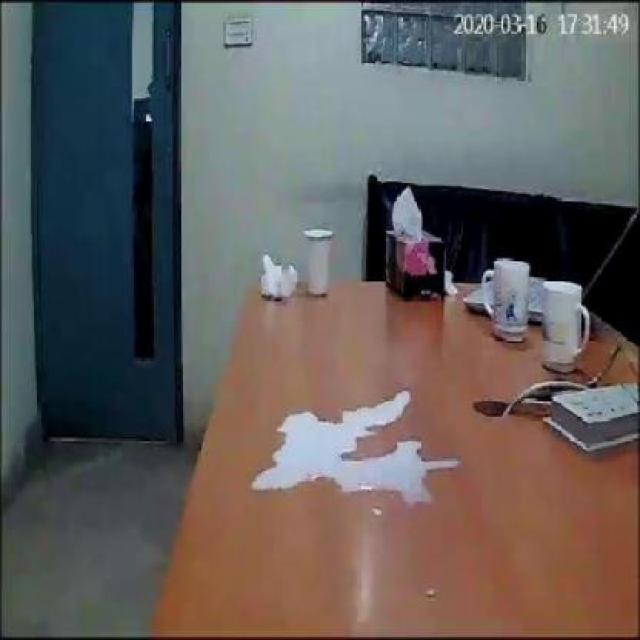spillage: (251, 389, 460, 507)
